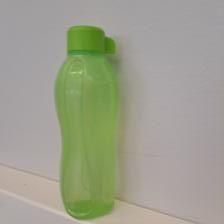bottle: (53, 23, 124, 220)
